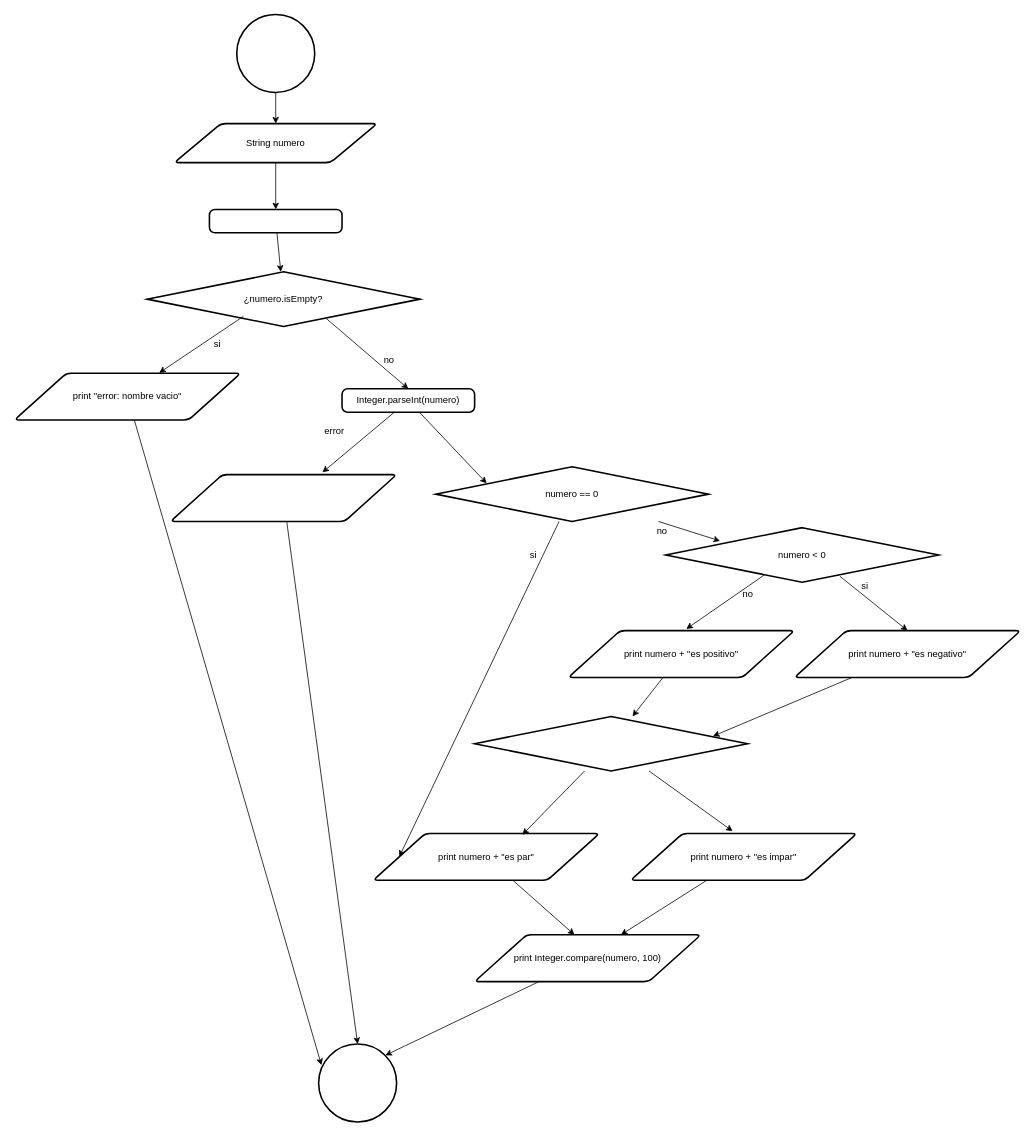
Some shapes in this 1034 by 1136 pixel diagram are drawn without their labels. The centre of each missing label's shape, as x and y in pixels:
FIN: [357,1082]
INICIO: [275,53]
numero % 2: [610,743]
numero = numero.trim(): [275,220]
print NumberFormatException: [283,497]
